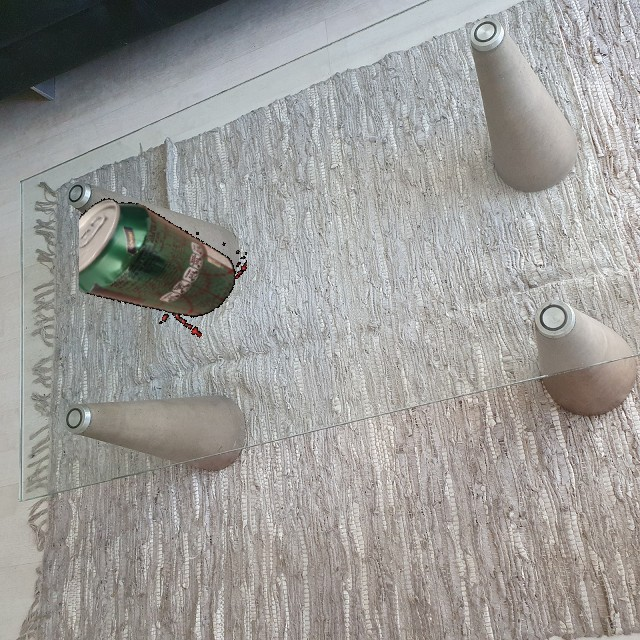schweppes: (79, 163, 247, 364)
